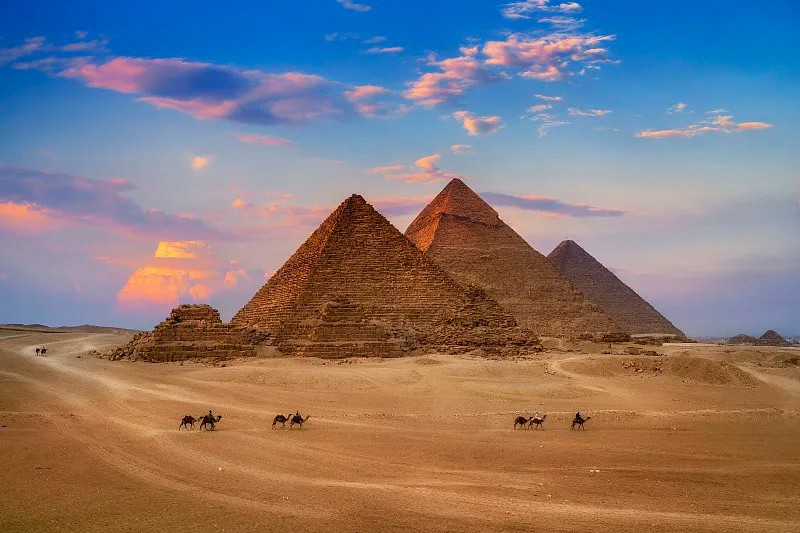Pyramid: (231, 195, 543, 348), (404, 179, 635, 344), (546, 240, 685, 339), (418, 287, 543, 353), (274, 294, 401, 358), (117, 305, 259, 361)
